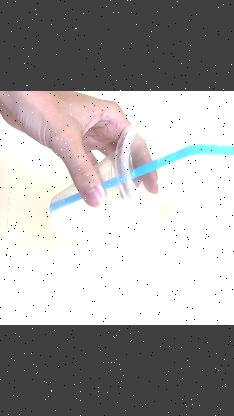Others: (47, 118, 234, 239)
